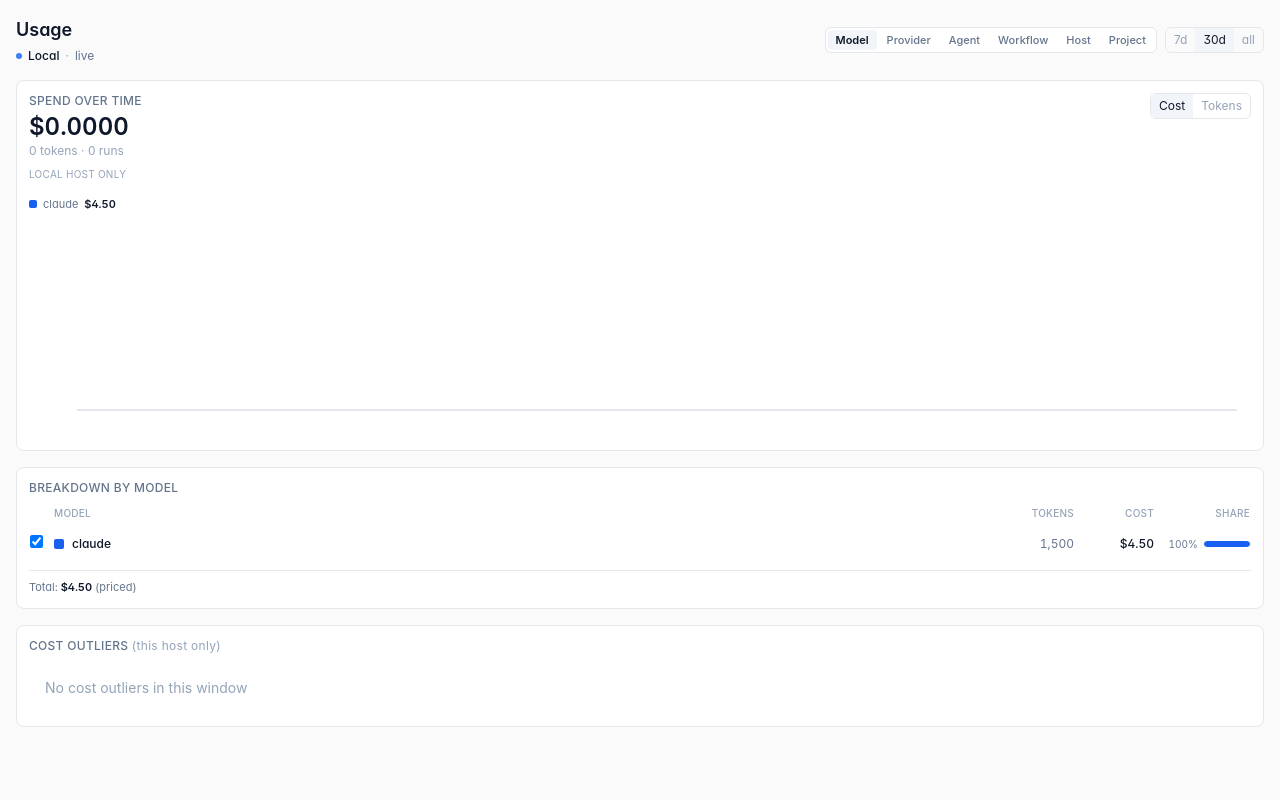
Test: Usage page — background refreshes are quiet › drops the "updating" cue once every host has failed for the new window, leaving the error chip
What coordinates should you click on to do the following:
click the button "7d"
I would click on:
 (1181, 40)
Its box is [1166,28,1195,52].
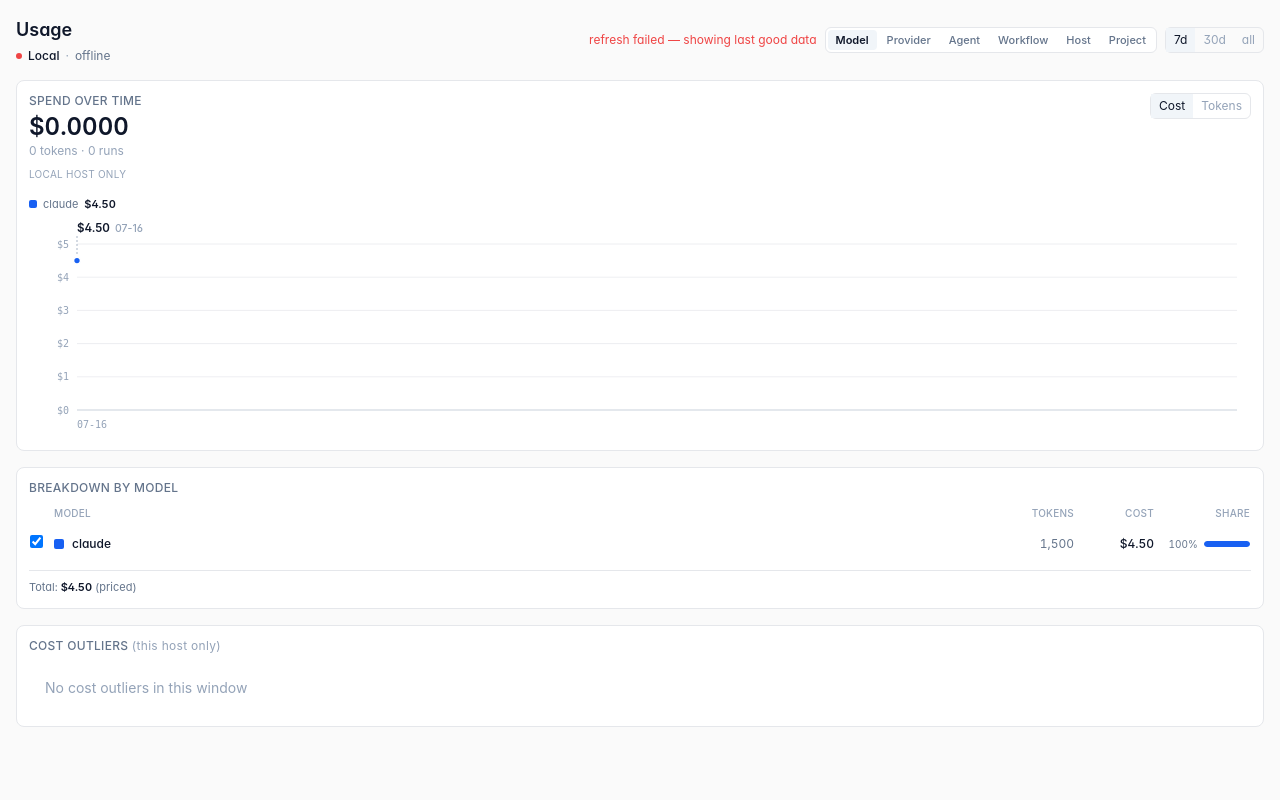
Check: the text "refresh failed — showing last good data" is shown, box [589,32,816,48]
